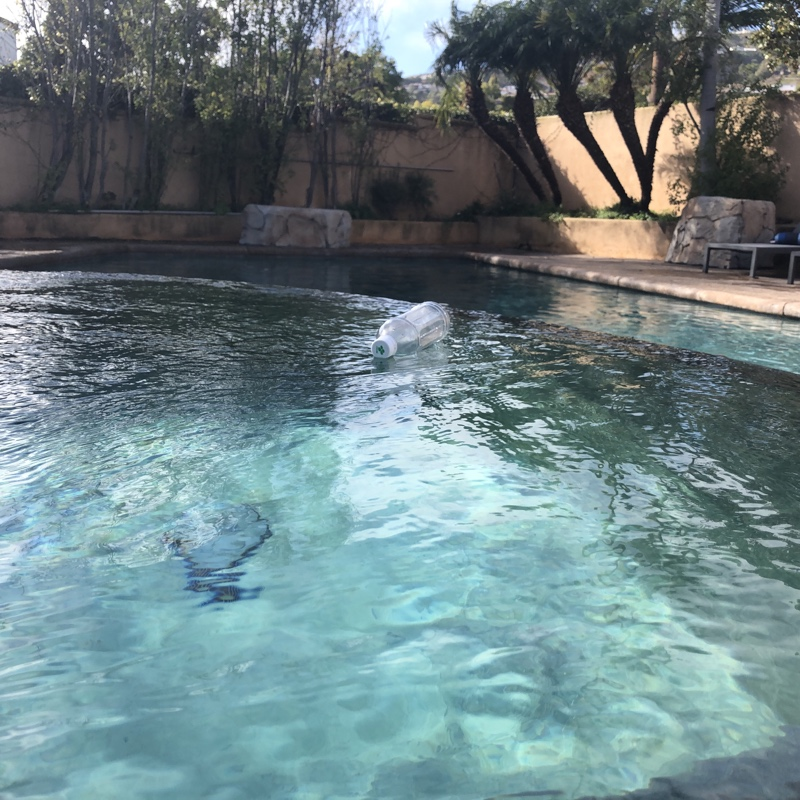Plastic Bottle: (366, 299, 452, 366)
